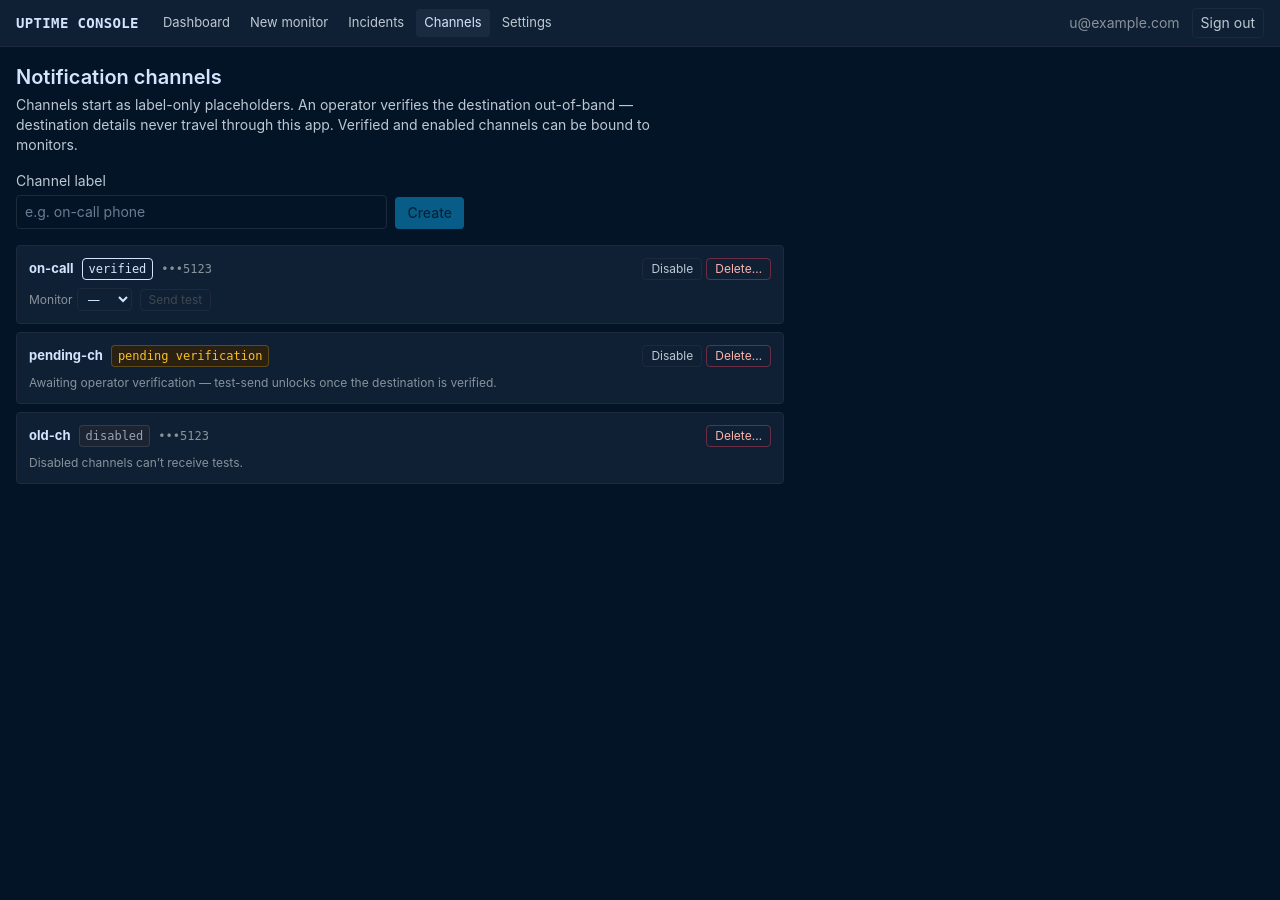
Test: channels page › 403 REAUTH_REQUIRED opens step-up, not a blind retry
Select "site" in the dropdown labelled "Monitor": (104, 300) [77, 288, 132, 311]
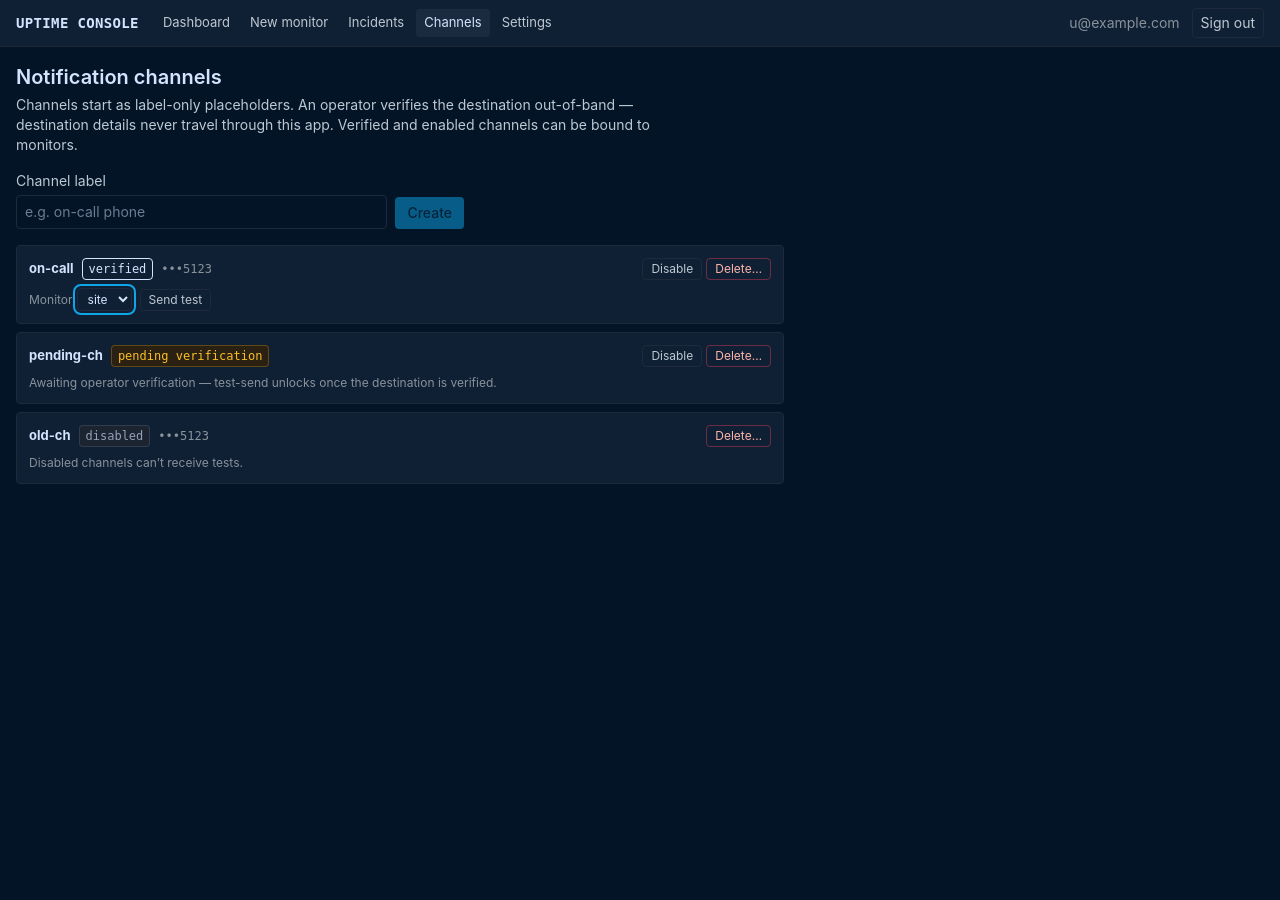
Click the button "Send test": (175, 300) [140, 288, 211, 310]
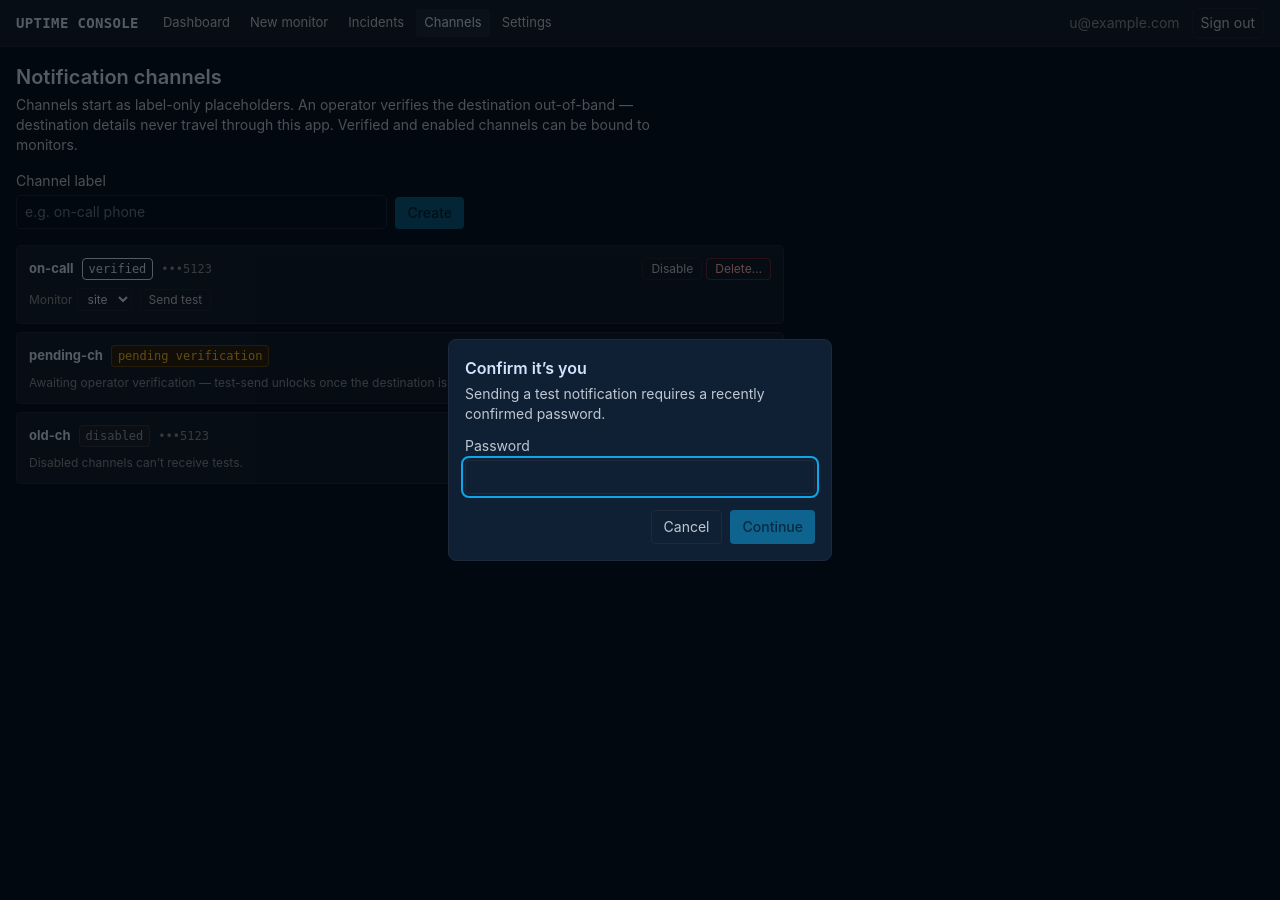
expect the heading "Confirm it’s you" is shown: met, box [465, 358, 587, 378]
In the password field labelled "Password": (640, 477) [465, 460, 815, 494], type "pw"
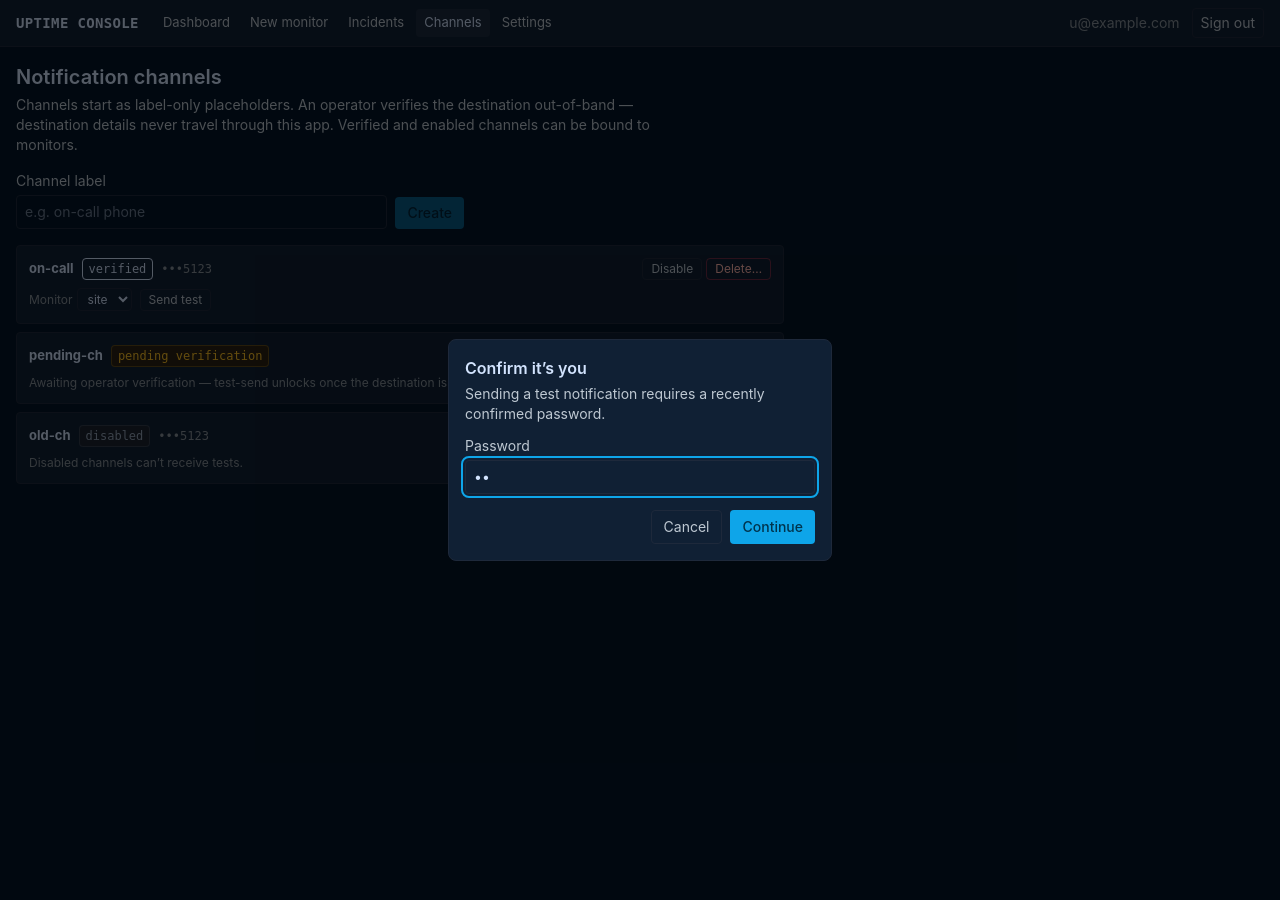
Click the button "Continue": (773, 527) [730, 510, 815, 544]
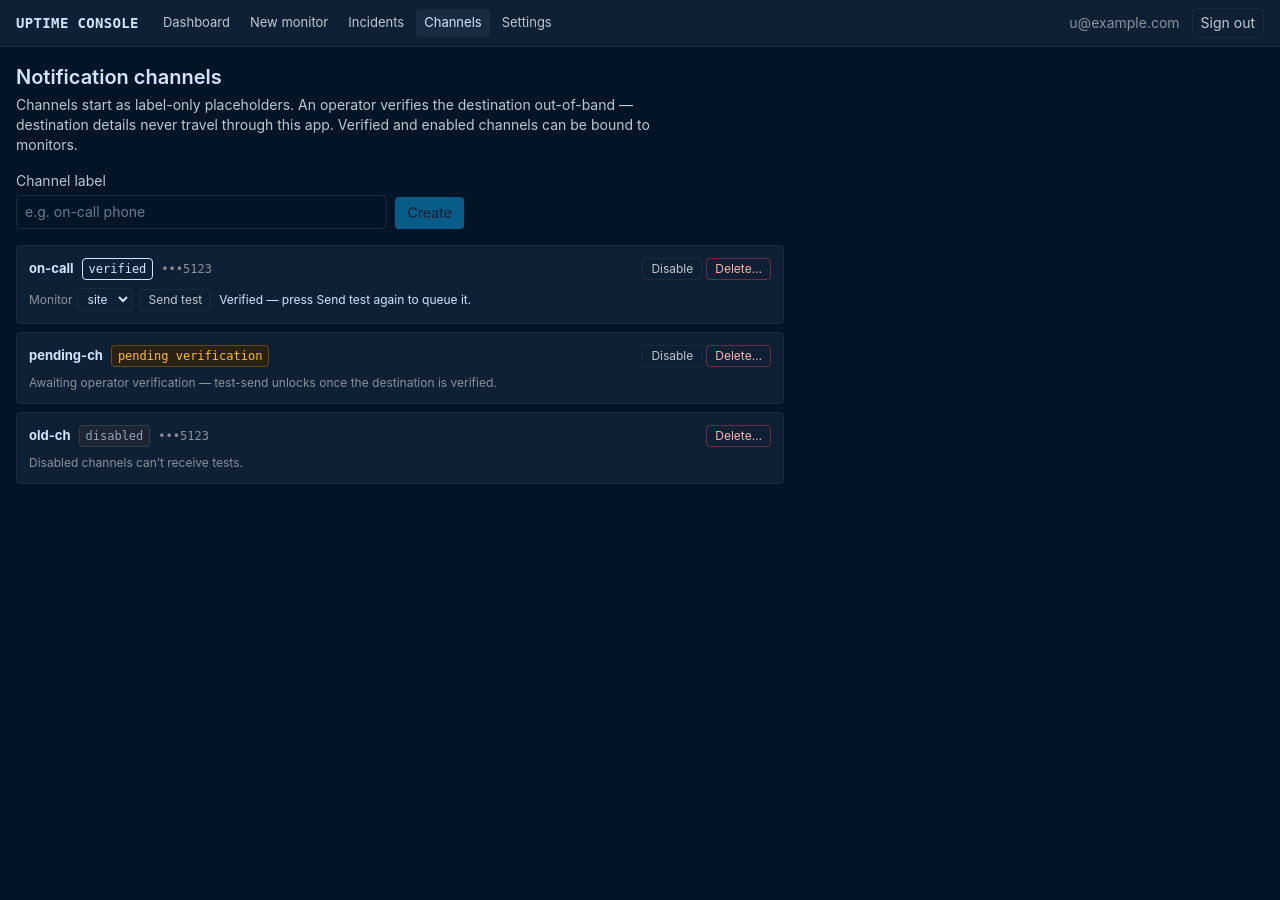
expect the text "Verified — press Send test again to queue it." is shown: met, box [219, 292, 471, 308]
